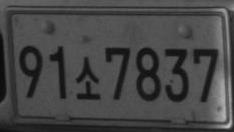1: (46, 45, 72, 99)
3: (164, 48, 189, 103)
7: (192, 48, 219, 103), (104, 46, 130, 100)
8: (134, 46, 161, 102)
9: (18, 44, 43, 98)
소: (75, 55, 101, 101)
